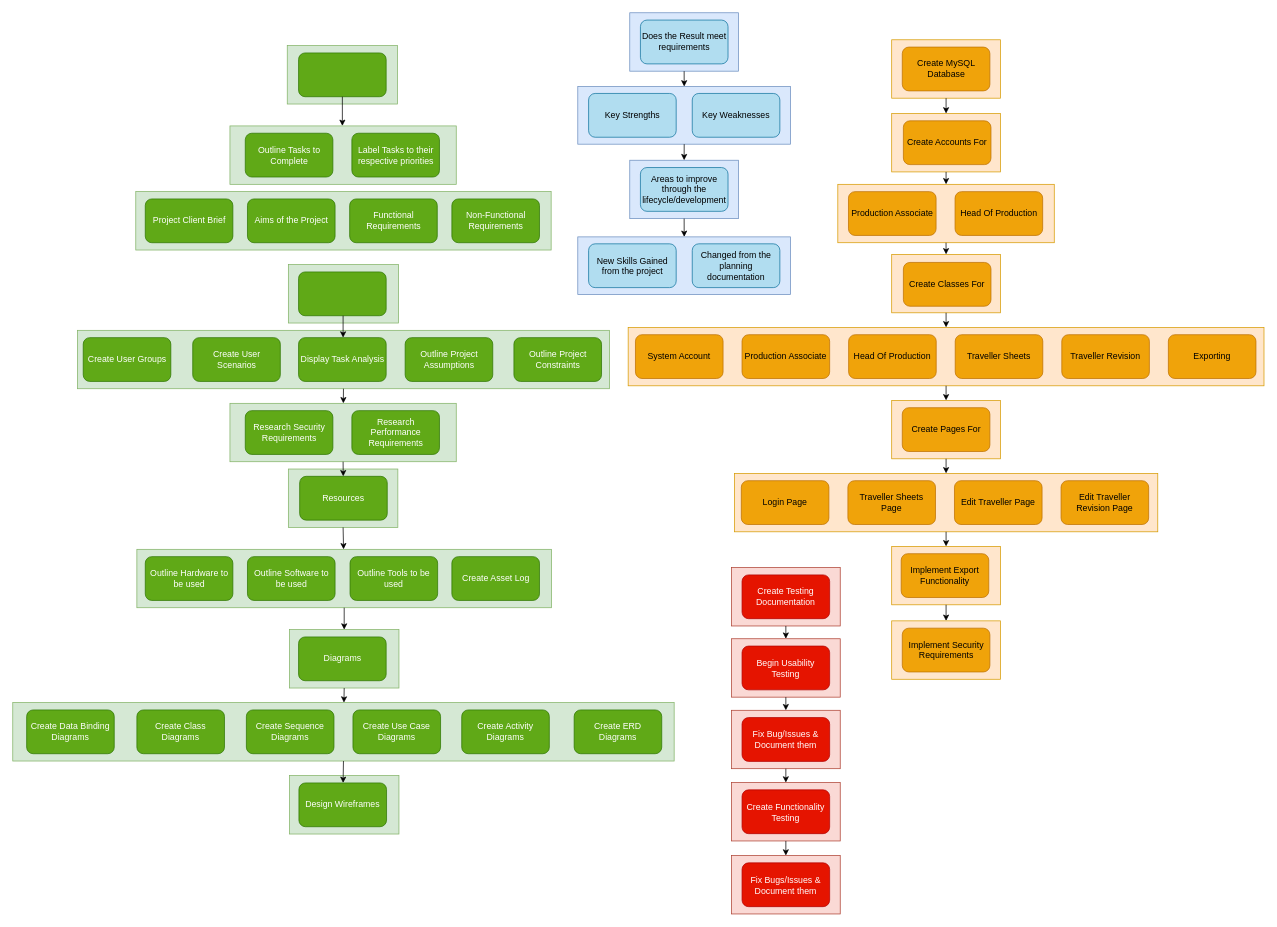
The diagram is 1277 pixels wide and 927 high, and some of its shapes have lost their labels. The shapes that lost their labels are listed below. From the top down, each one's box as (x1, y1, x2, y2) in pixels, then its label:
(298, 52, 386, 97): Produce Project Plan
(298, 271, 386, 316): Project Research
